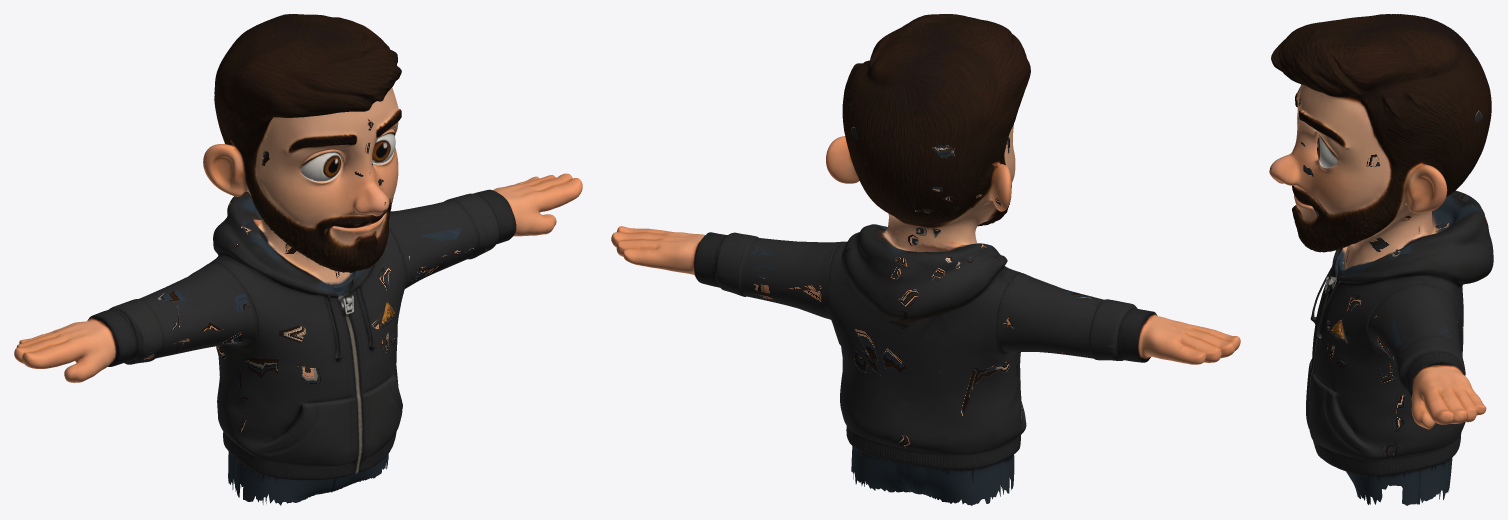
The model's file is me_full_lessFaces.glb.
The picture shows the model from 3 angles, left to right: view 1: azimuth 30°, elevation 25°; view 2: azimuth 150°, elevation 25°; view 3: azimuth 270°, elevation 25°; orthographic projection. The views are drawn at different scales.
Parts seen in each view (by area): view 1: tripo_node_11ec8a89; view 2: tripo_node_11ec8a89; view 3: tripo_node_11ec8a89.
Boxes of the visible parts, x1,y1,x2,y2 form: tripo_node_11ec8a89: (14, 14, 582, 505); tripo_node_11ec8a89: (611, 14, 1240, 505); tripo_node_11ec8a89: (1269, 14, 1493, 505).
Bounding box in the file's own units: 0.9956 × 0.7143 × 0.3248.
1 material, 1 textured.
